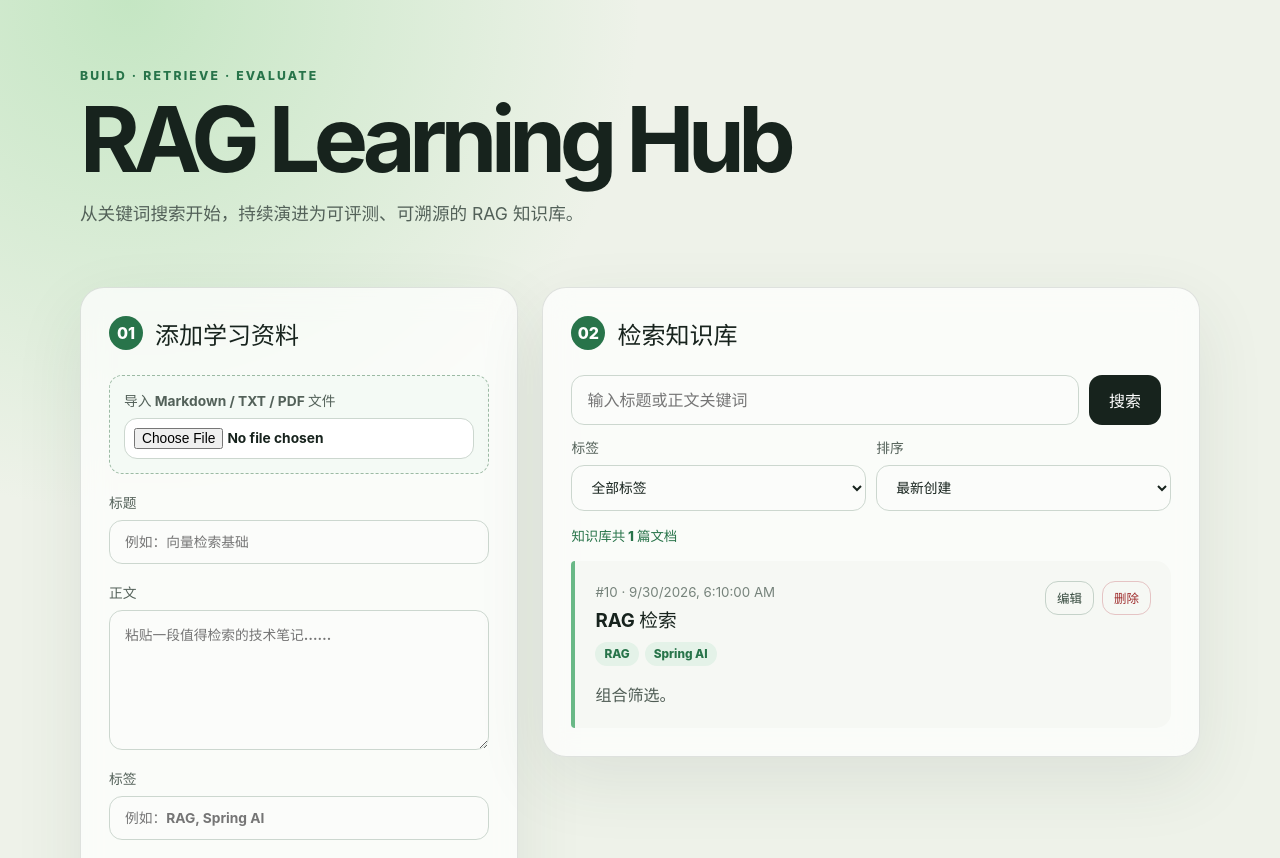
Test: App › combines keyword and tag filters with title sorting
Type "检索" into the field with placeholder "输入标题或正文关键词" at (825, 400), box [571,375,1079,425]
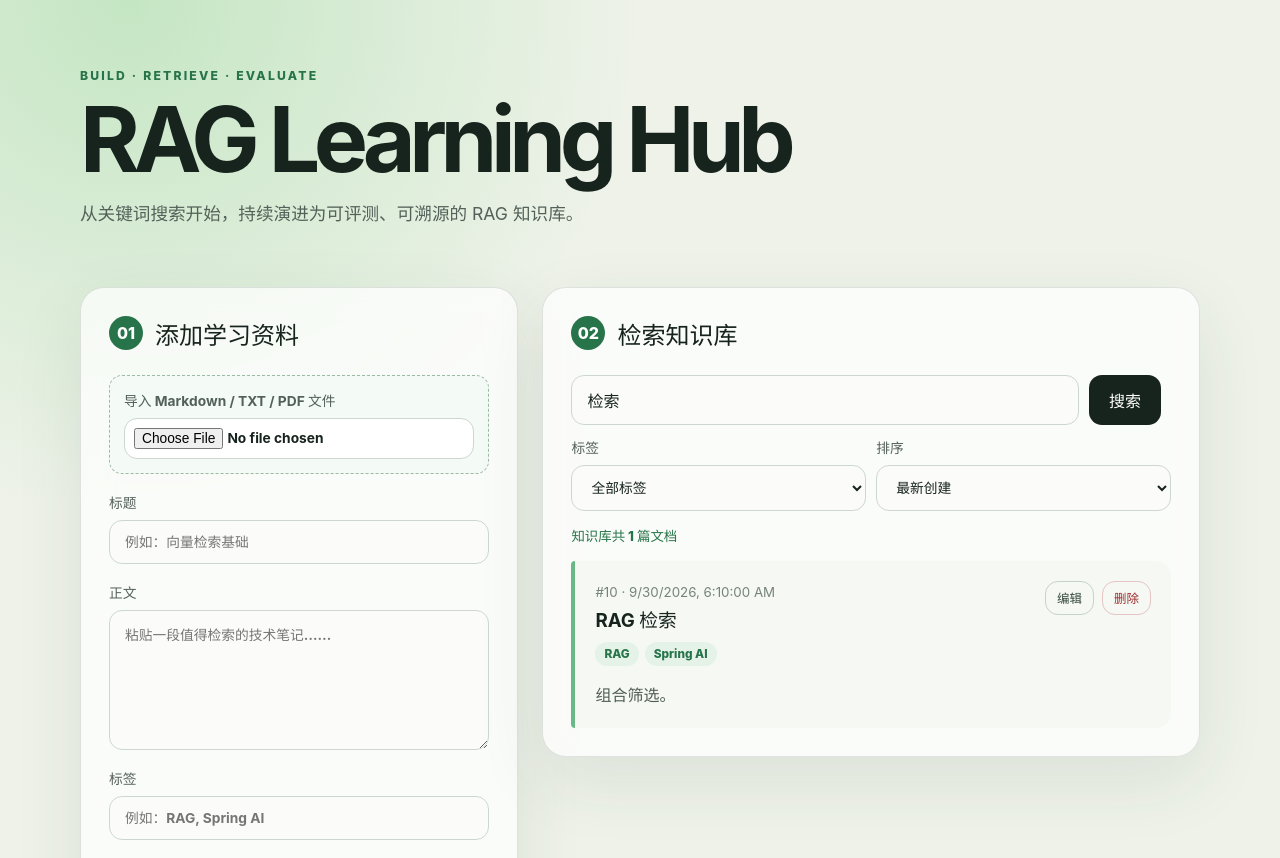
Select "RAG" in the dropdown named "按标签筛选" at (719, 488), box [571,465,866,511]
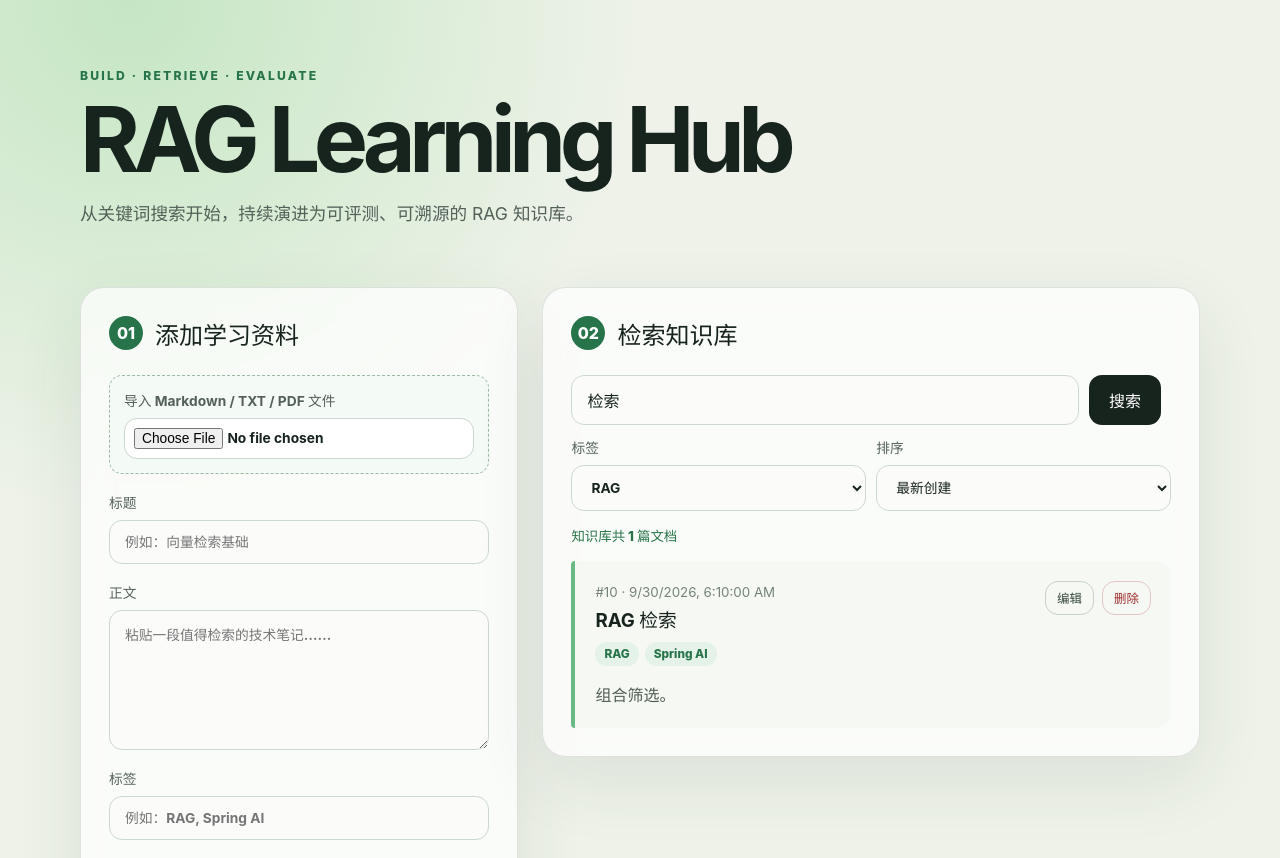
Select "标题排序" in the dropdown named "排序方式" at (1024, 488), box [876,465,1171,511]
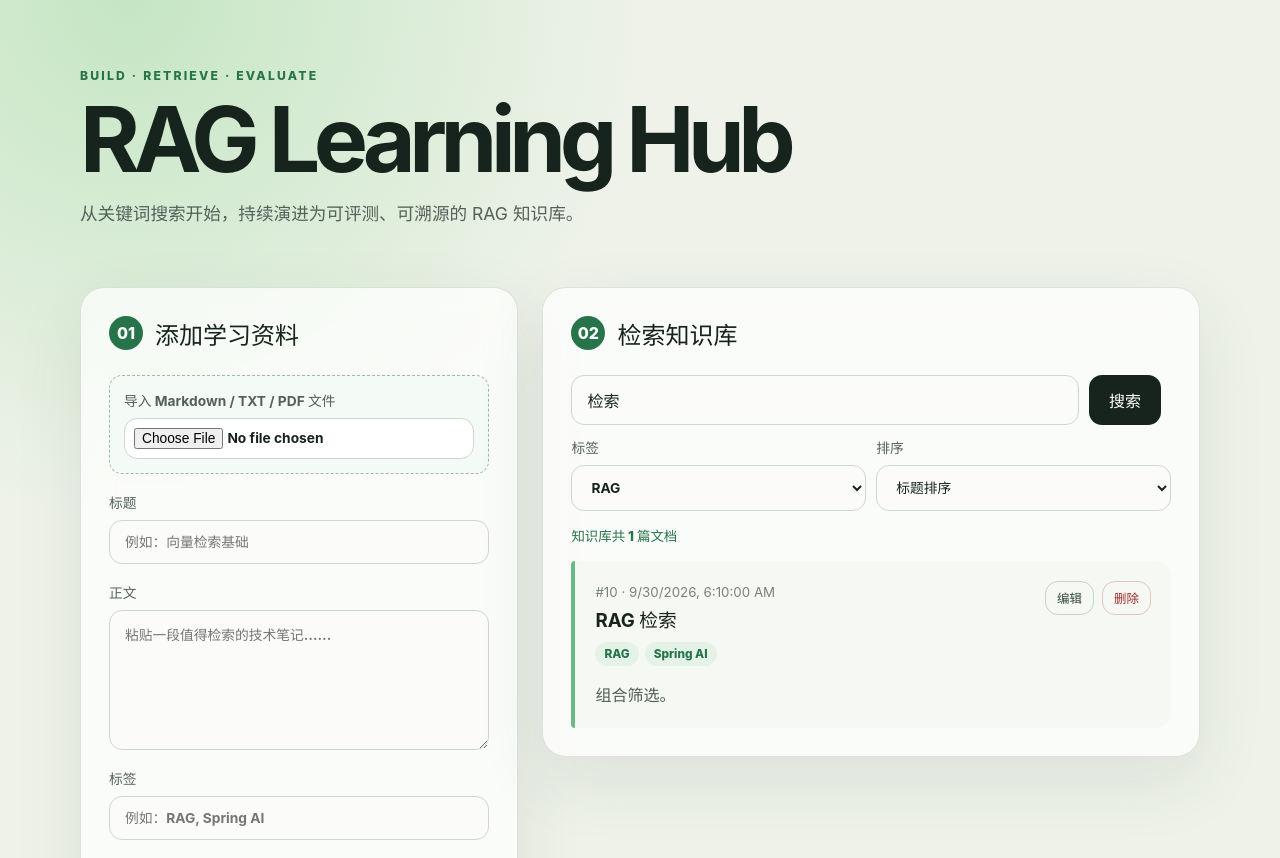
Submit the form with class "search", box [571,375,1171,511]
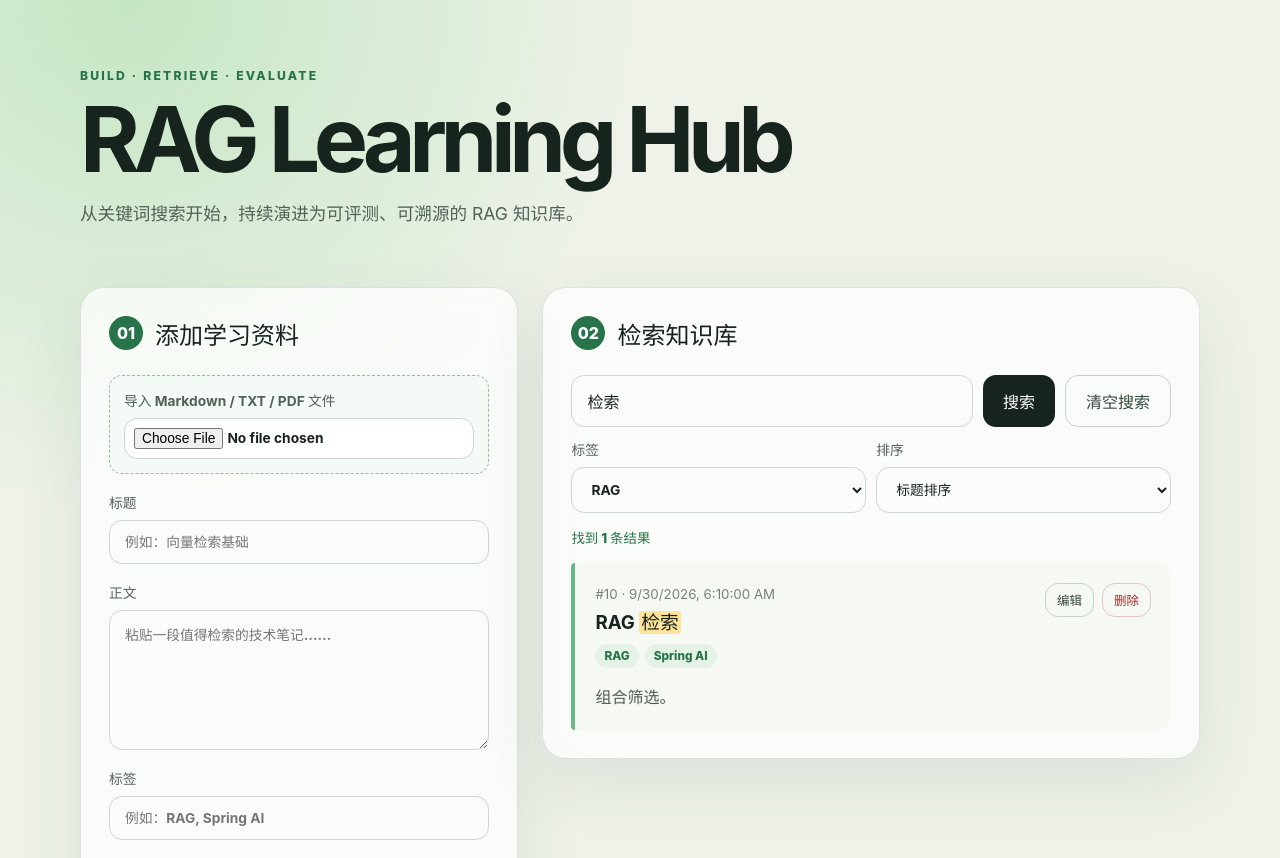
Check: the text with class "result-summary" reads "找到 1 条结果", box [571,530,650,546]
